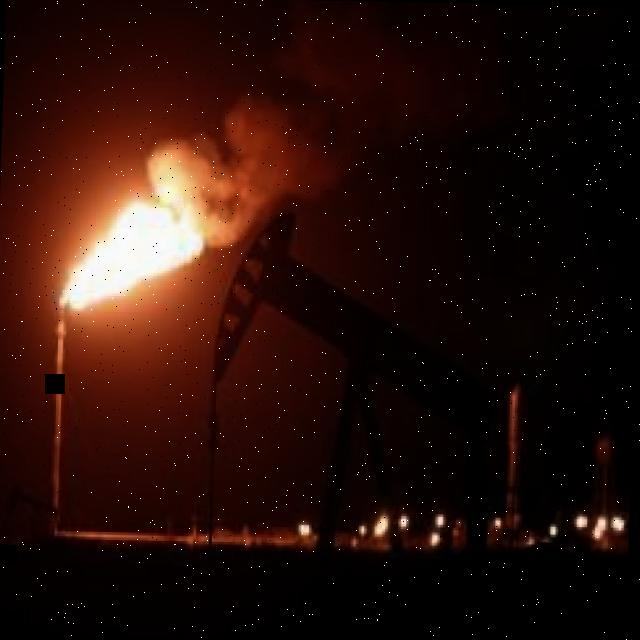fire: (63, 202, 205, 309)
smoke: (148, 0, 532, 248)
